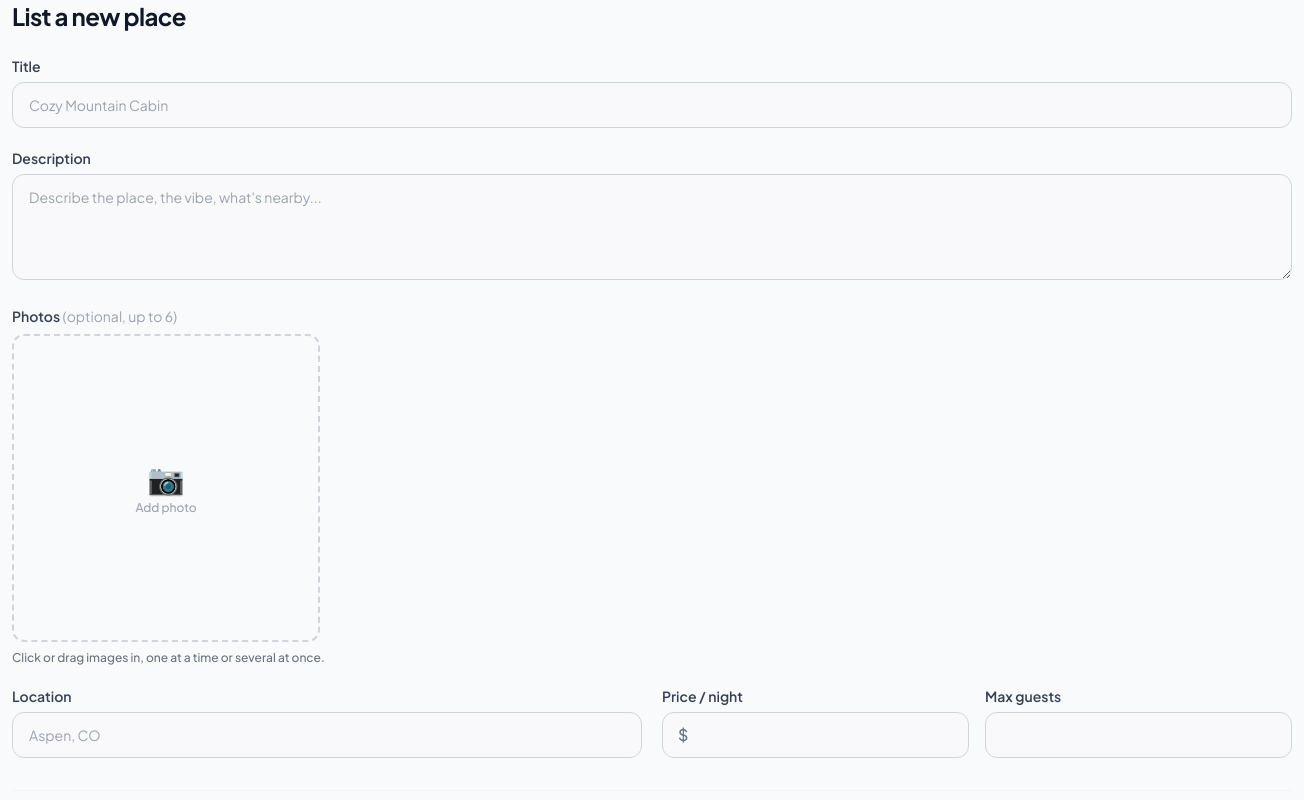
Test: ListingForm › shows a validation error when the title is under 3 characters
Type "Ab" into the field labelled "Title" at (652, 105), box [12,82,1292,128]
(page scrolled)
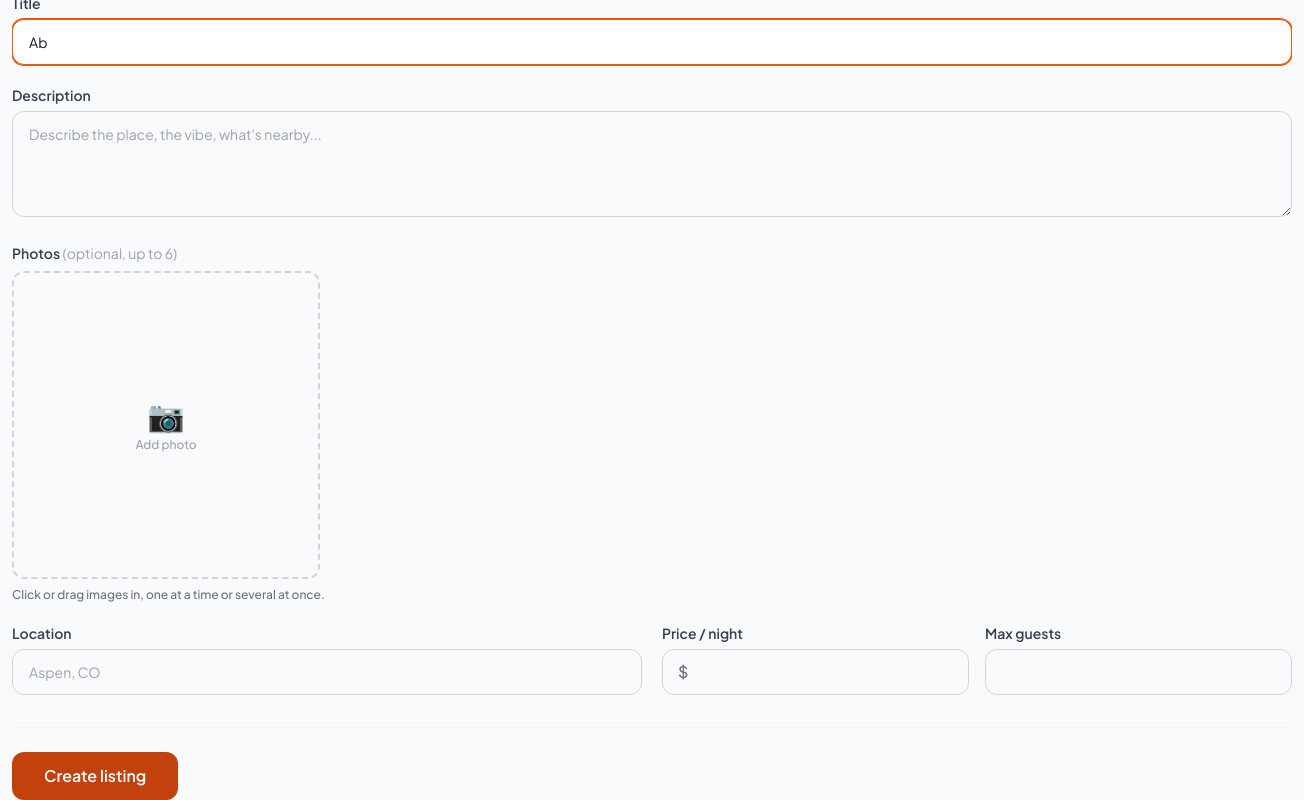
Click the button "Create listing" at (95, 776), box [12,752,178,799]
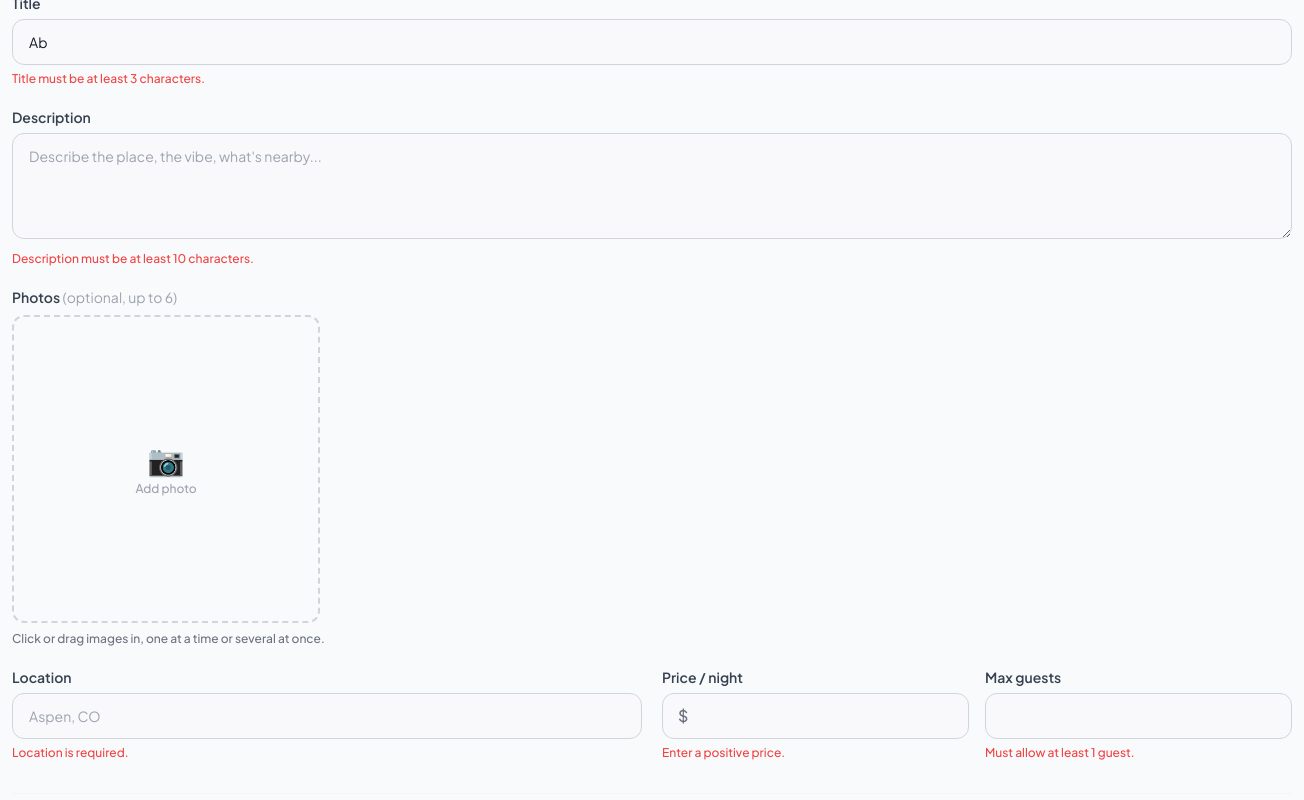
expect the text "Title must be at least 3 characters." is shown: met, box [12,71,205,86]
